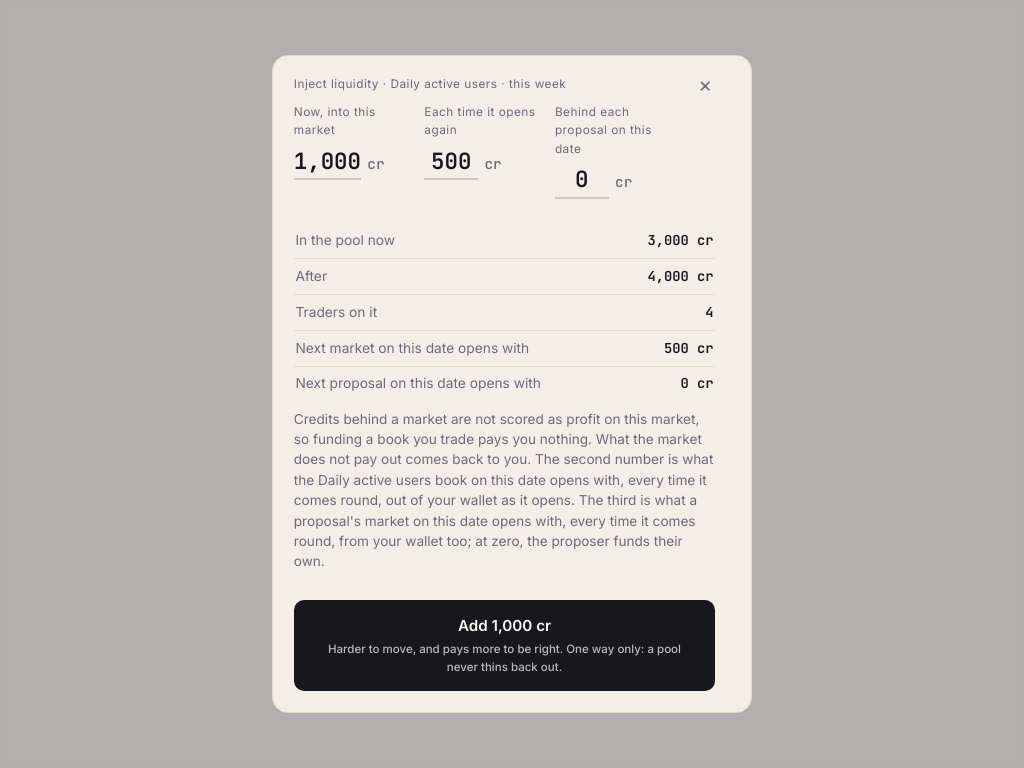
Scenario: dialog 3: three numbers for a manager on a baseline market with a date row › a refused write moves nothing
The image size is (1024, 768).
Type "250" into the field named "Credits behind each proposal on this date".
click(582, 181); type("250")  # box [555, 163, 609, 199]
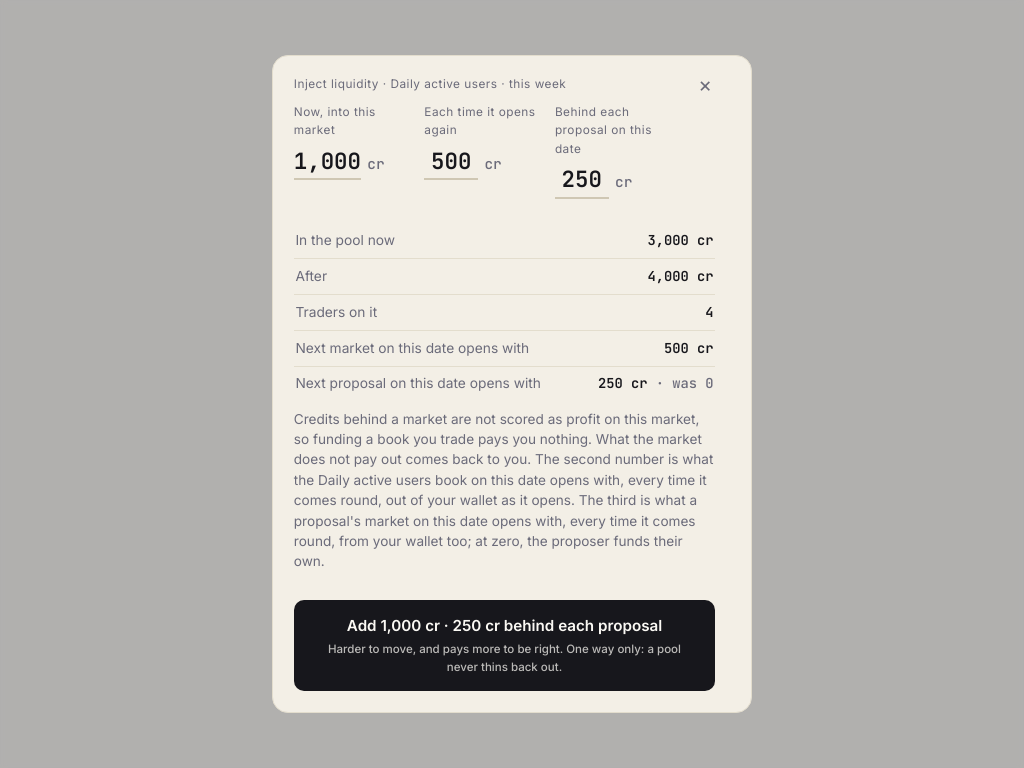
Click the button "Add 1,000 cr · 250 cr behind each proposal".
click(504, 646)  # box [294, 600, 715, 691]
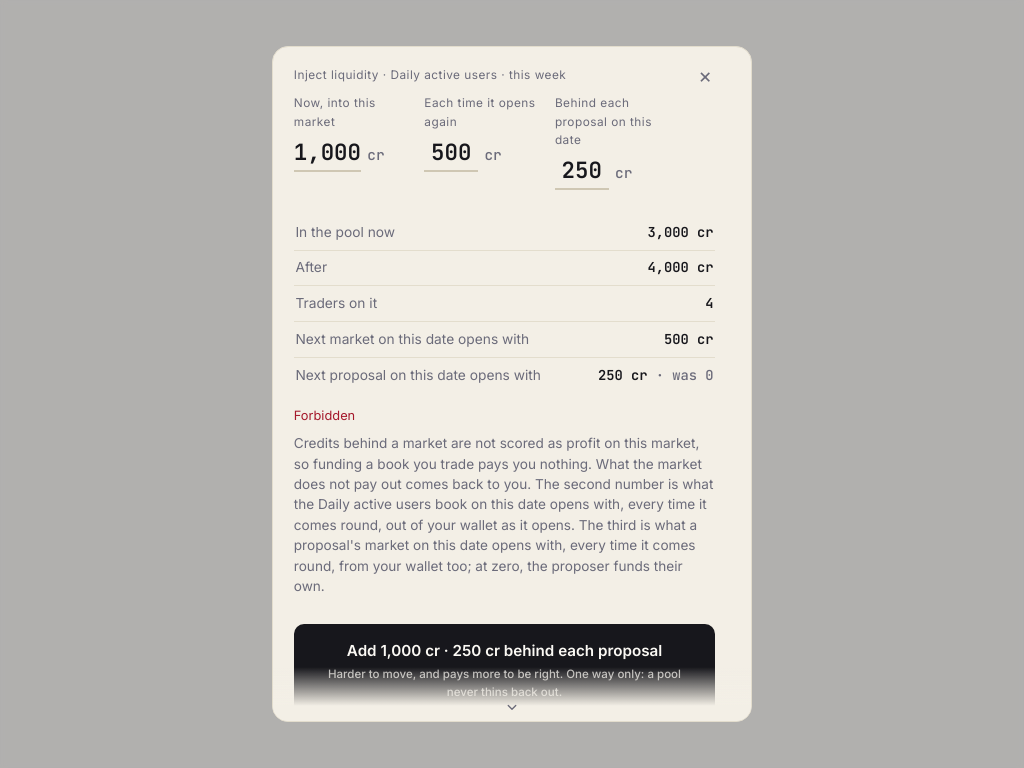
Expected: the text "Forbidden" is shown, [294, 408, 355, 423]
